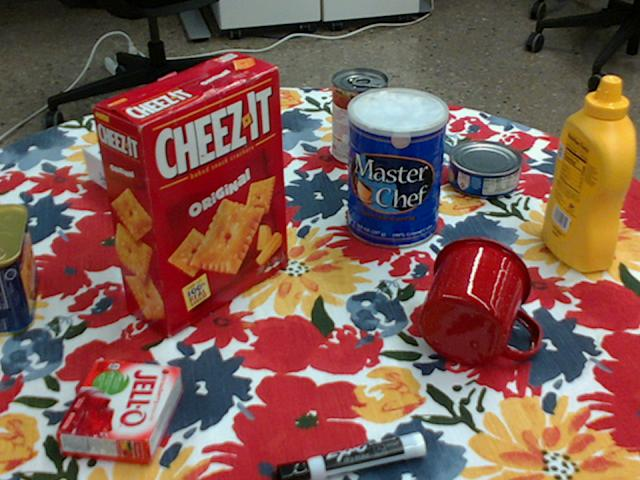cracker_box: (89, 51, 283, 335)
gelatin_box: (60, 360, 183, 463)
large_marker: (272, 431, 427, 479)
master_chef_can: (347, 87, 448, 249)
mug: (420, 236, 540, 365)
mustard_bottle: (540, 77, 633, 272)
potted_meat_can: (0, 202, 36, 334)
sugar_box: (81, 106, 247, 206)
tomato_soup_can: (331, 68, 387, 167)
tuna_fish_can: (449, 142, 523, 199)
